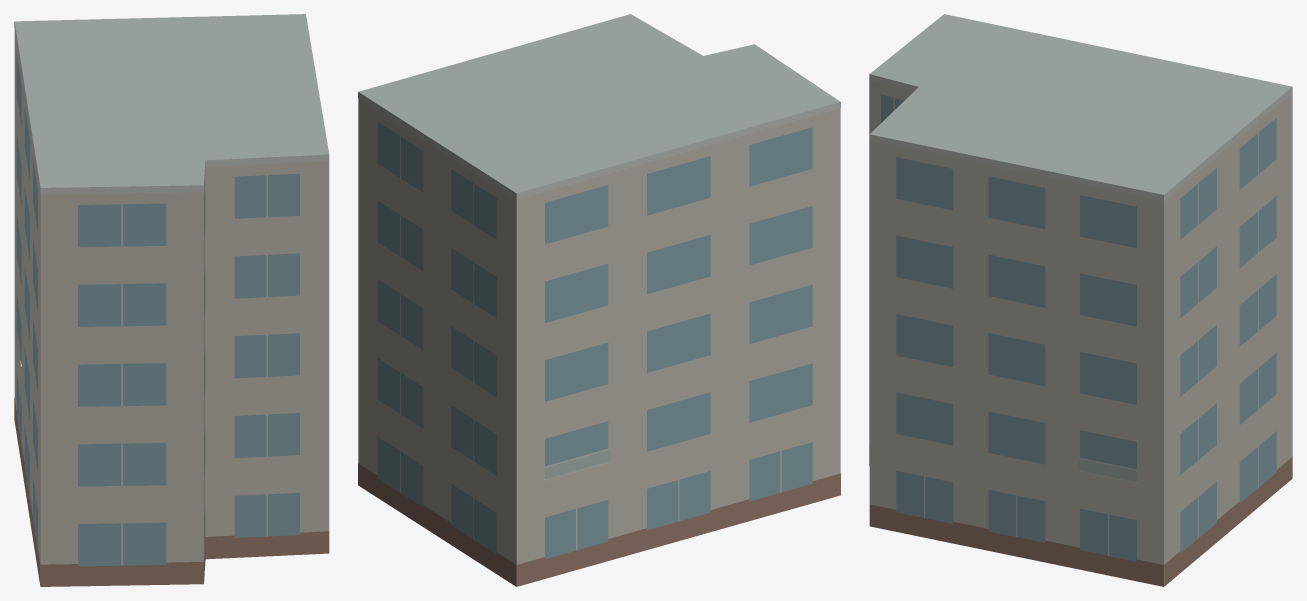
The model's file is survey-upis-32892618.glb.
The picture shows the model from 3 angles, left to right: view 1: azimuth 30°, elevation 25°; view 2: azimuth 150°, elevation 25°; view 3: azimuth 270°, elevation 25°; orthographic projection.
Parts seen in each view (by area): view 1: survey-upis-32892618.tmp; view 2: survey-upis-32892618.tmp; view 3: survey-upis-32892618.tmp.
Part boxes in pixels (<box>): survey-upis-32892618.tmp: <box>14,14,329,586</box>; survey-upis-32892618.tmp: <box>358,14,840,586</box>; survey-upis-32892618.tmp: <box>869,14,1292,586</box>.
Size of the model in its own units: 14.41 by 14.55 by 14.24.
